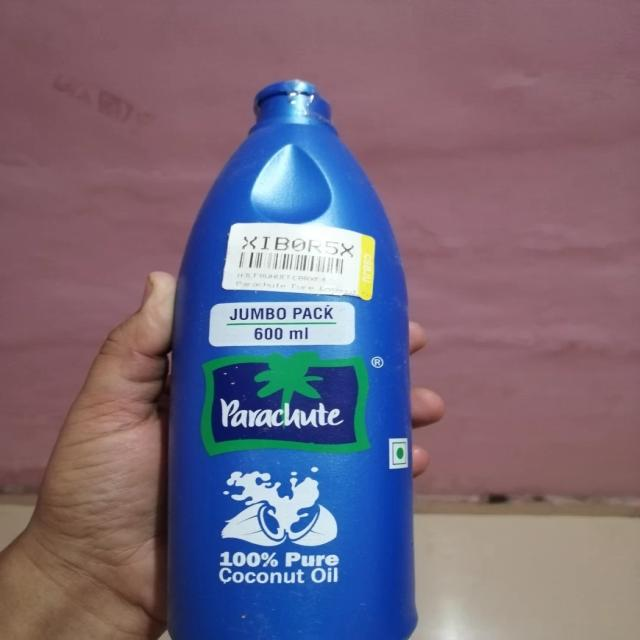parachute_oil: (173, 65, 418, 640)
